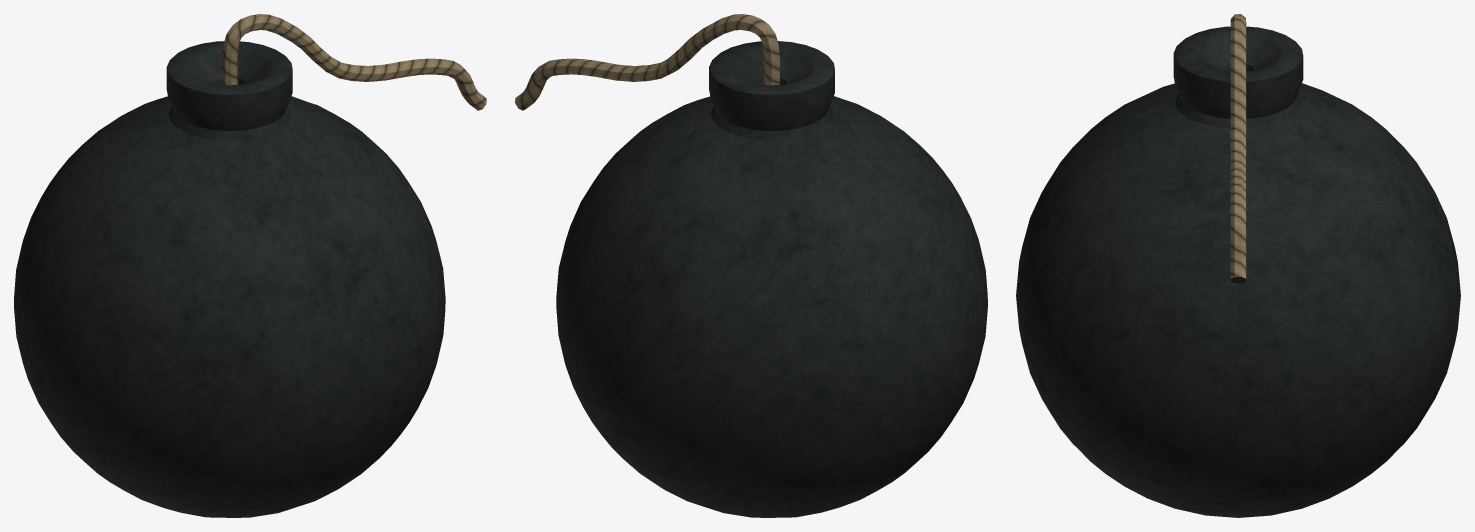
File: cc0_-_bomb_1k.glb
The picture shows the model from 3 angles, left to right: view 1: azimuth 30°, elevation 25°; view 2: azimuth 150°, elevation 25°; view 3: azimuth 270°, elevation 25°; orthographic projection. The views are drawn at different scales.
Visible parts, largest first — view 1: Bomb; view 2: Bomb; view 3: Bomb.
Boxes of the visible parts, x1=… form: Bomb: x1=14, y1=14, x2=486, y2=517; Bomb: x1=515, y1=14, x2=987, y2=517; Bomb: x1=1016, y1=14, x2=1460, y2=517.
Size of the model in its own units: 0.1325 by 0.1363 by 0.112.
1 material, 1 textured.
